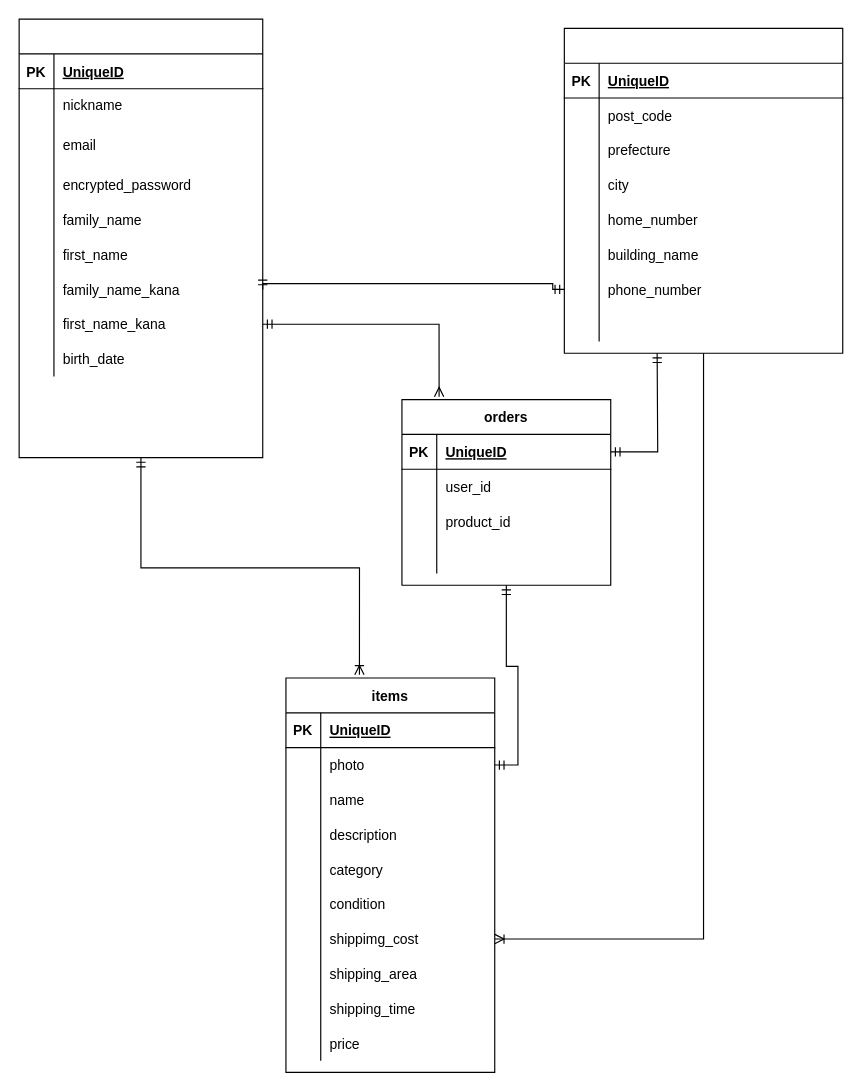
Some shapes in this 862 by 1092 pixel diagram are drawn without their labels. Each missing label, with the box of its shape:
delivery_addresses: (563, 27, 843, 353)
users: (18, 18, 263, 458)
